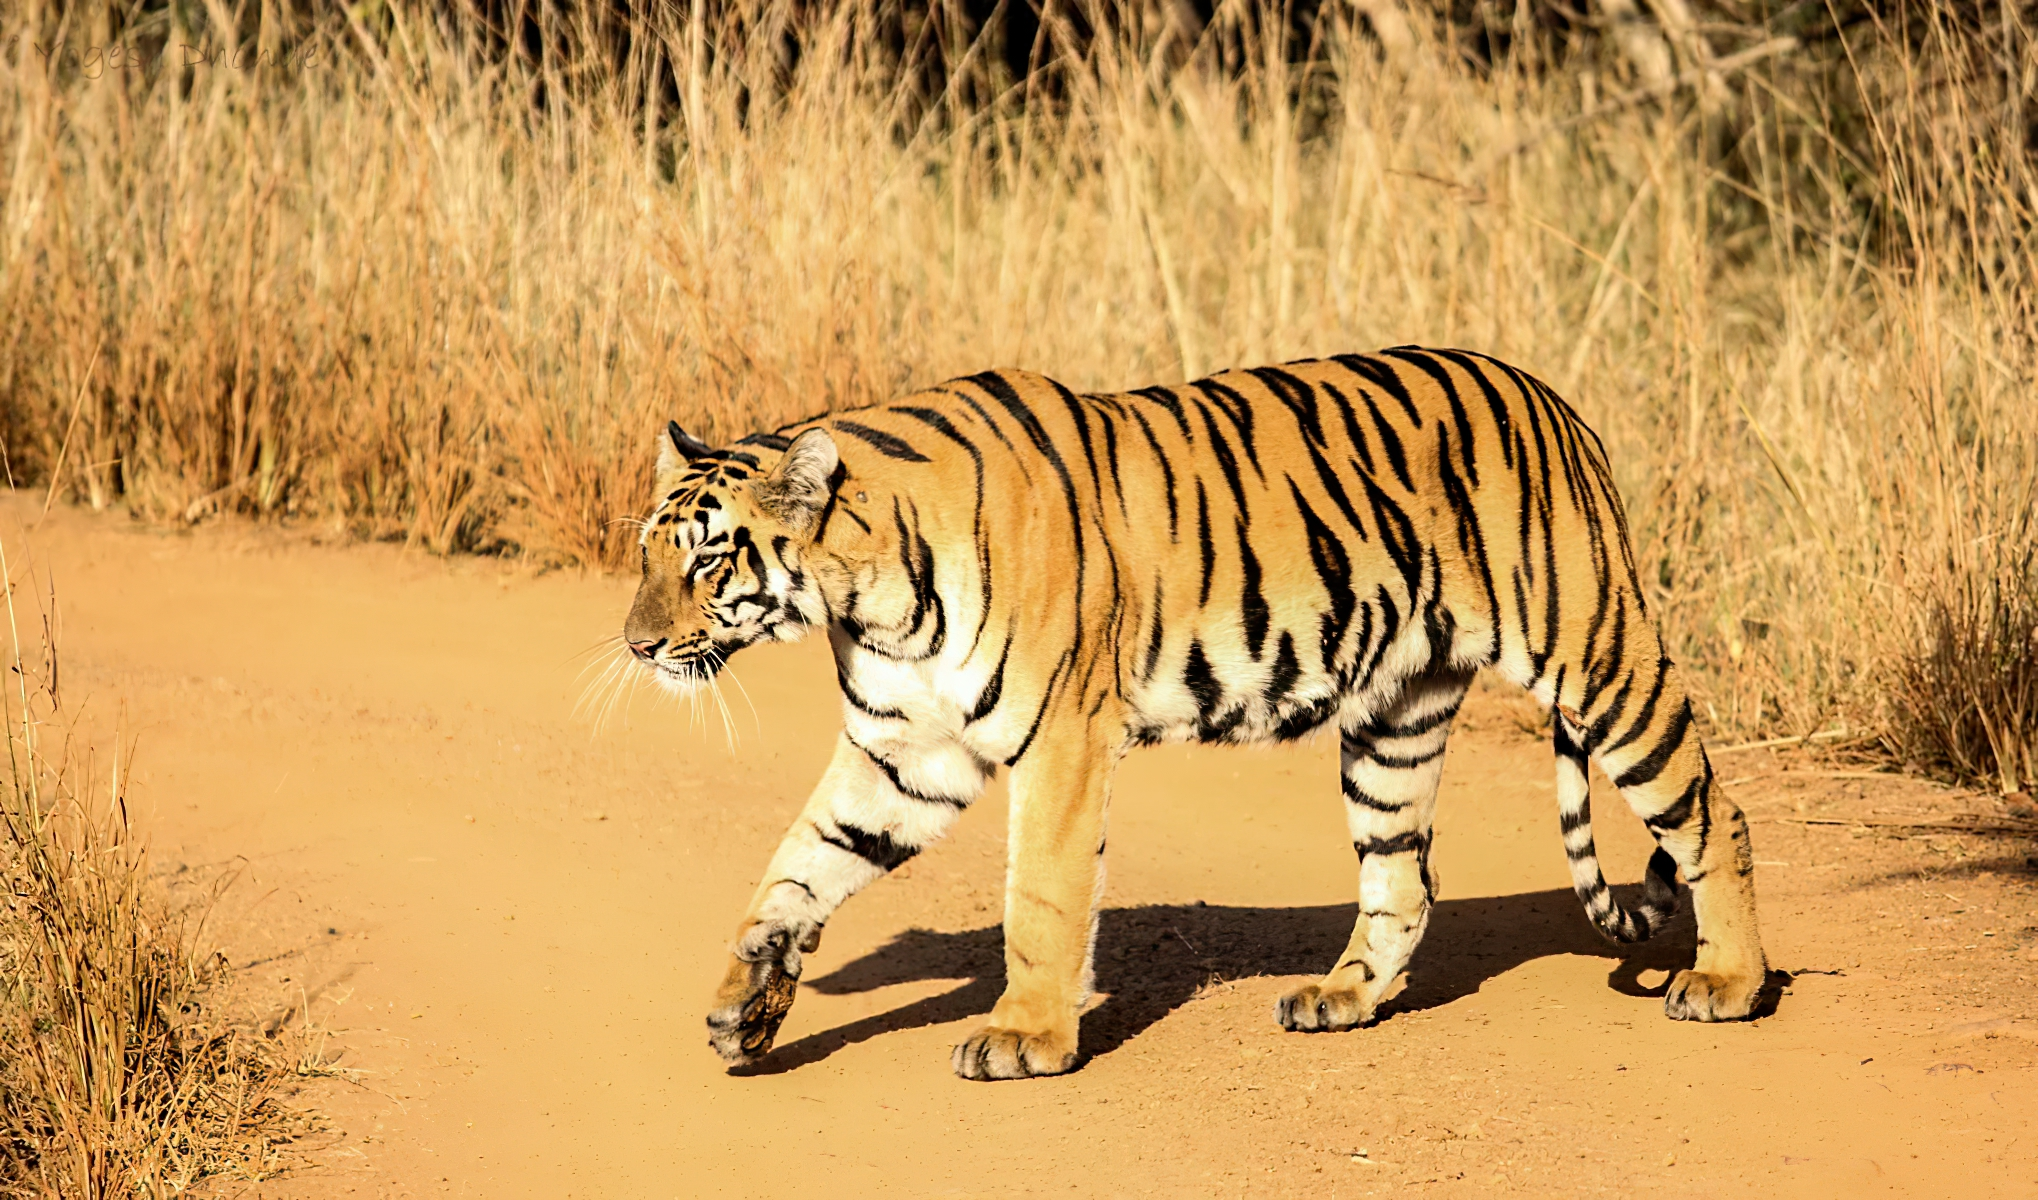tiger: (553, 330, 1879, 1130)
